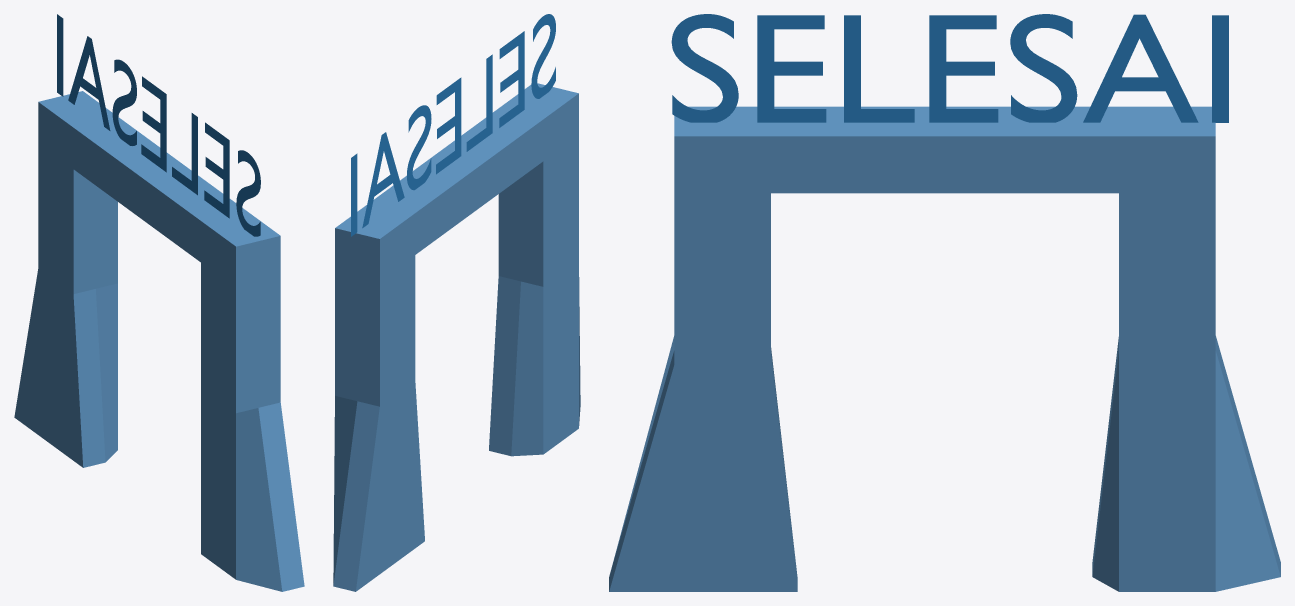
The model's file is finish.fbx.
The picture shows the model from 3 angles, left to right: view 1: azimuth 30°, elevation 25°; view 2: azimuth 150°, elevation 25°; view 3: azimuth 270°, elevation 25°; orthographic projection. The views are drawn at different scales.
Visible parts, largest first — view 1: Cube.001, Text; view 2: Cube.001, Text; view 3: Cube.001, Text.
Boxes of the visible parts, left/top/right/bottom form: Cube.001: left=14, top=91, right=304, bottom=591; Text: left=57, top=14, right=260, bottom=236; Cube.001: left=333, top=83, right=580, bottom=591; Text: left=351, top=14, right=555, bottom=236; Cube.001: left=609, top=106, right=1280, bottom=591; Text: left=671, top=14, right=1228, bottom=122.
Bounding box in the file's own units: 146 × 1291 × 1393.
